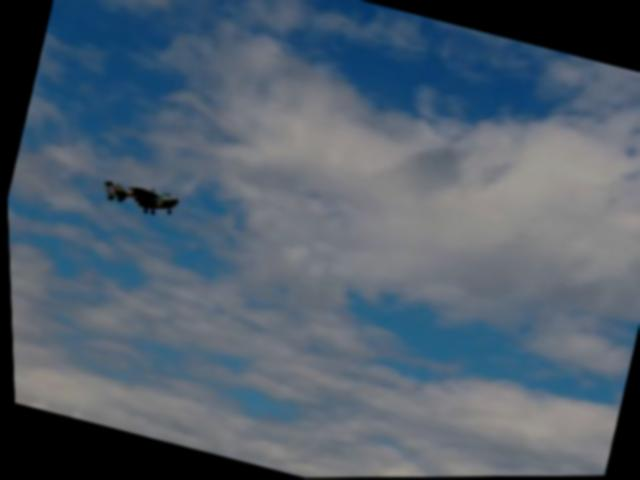uav: (96, 168, 185, 229)
